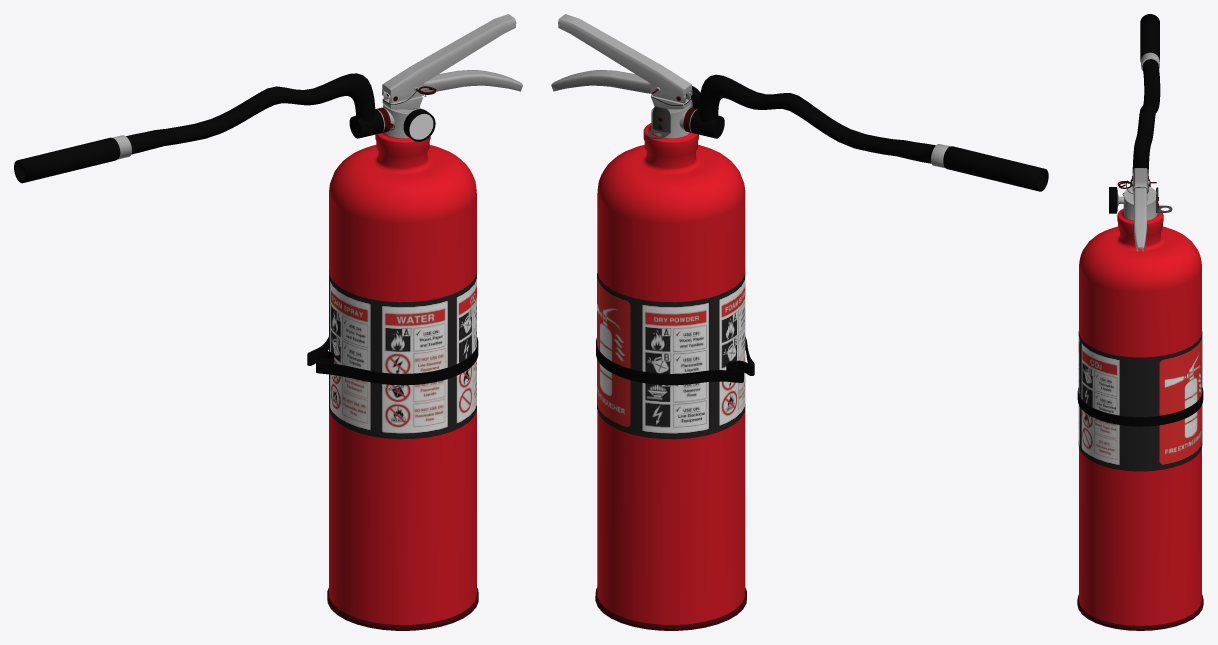
The model's file is Extinguisher.fbx.
3 renders of one model, left to right at view 1: azimuth 30°, elevation 25°; view 2: azimuth 150°, elevation 25°; view 3: azimuth 270°, elevation 25°, orthographic. The views are drawn at different scales.
Visible parts, largest first — view 1: FE; view 2: FE; view 3: FE.
Boxes of the visible parts, box(x1,y1,x2,y2) form: FE: box(14, 14, 522, 630); FE: box(551, 14, 1048, 630); FE: box(1077, 14, 1203, 630).
Size of the model in its own units: 62.12 by 66.6 by 16.49.
Materials: 13 (2 with a texture image).
